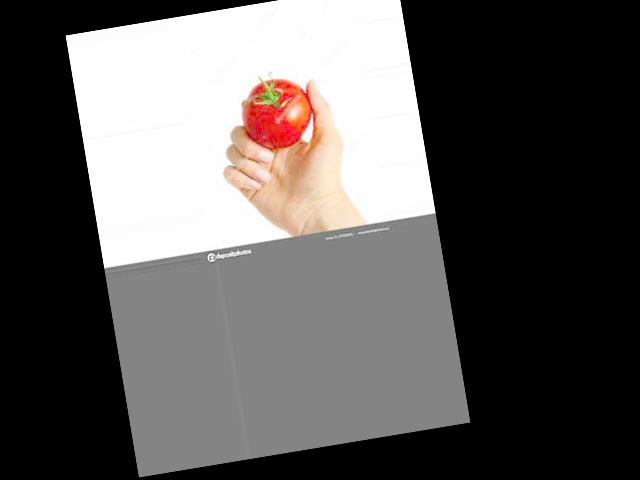tomato: (238, 73, 317, 155)
